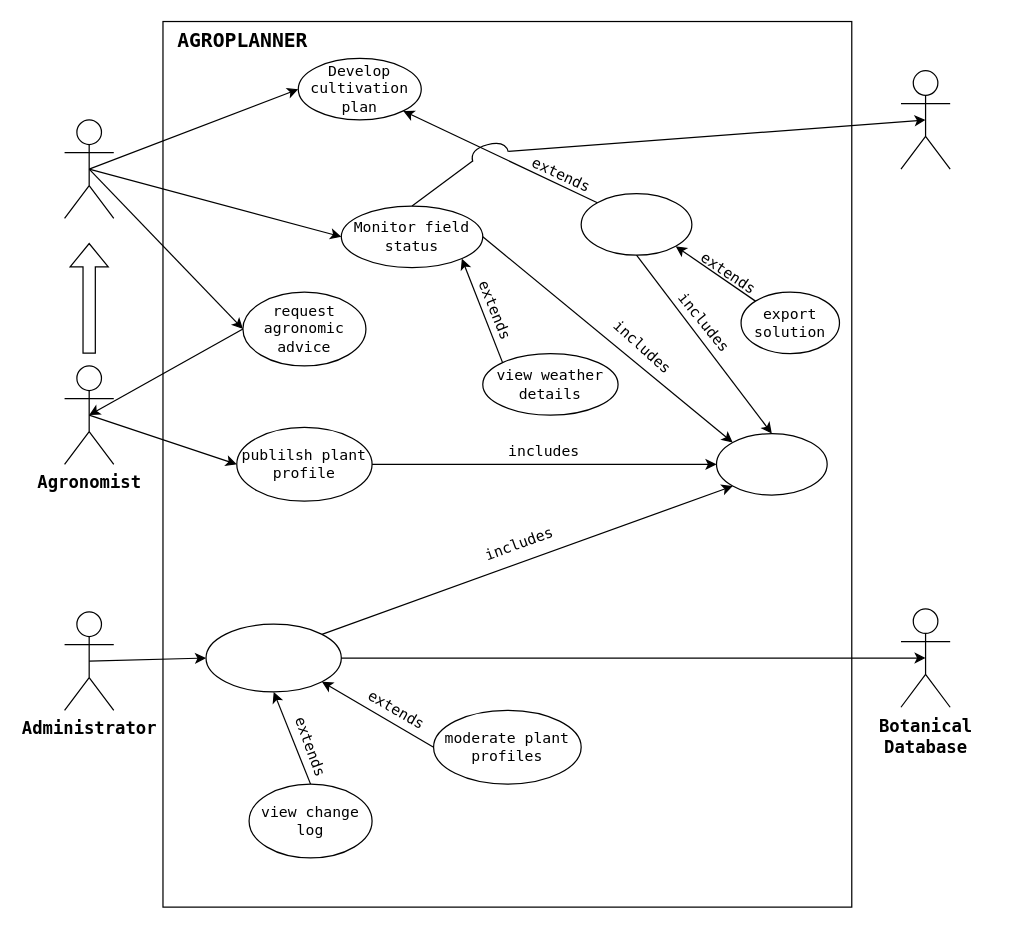
The diagram is 1009 pixels wide and 929 high, and some of its shapes have lost their labels. The shapes that lost their labels are listed below. From the top down, each one's centre as x and y in pixels, then its label:
At pixel 925 119: "Weather Data Service".
At pixel 88 168: "User".
At pixel 636 223: "save solution".
At pixel 771 463: "Login".
At pixel 273 657: "Manage database".
